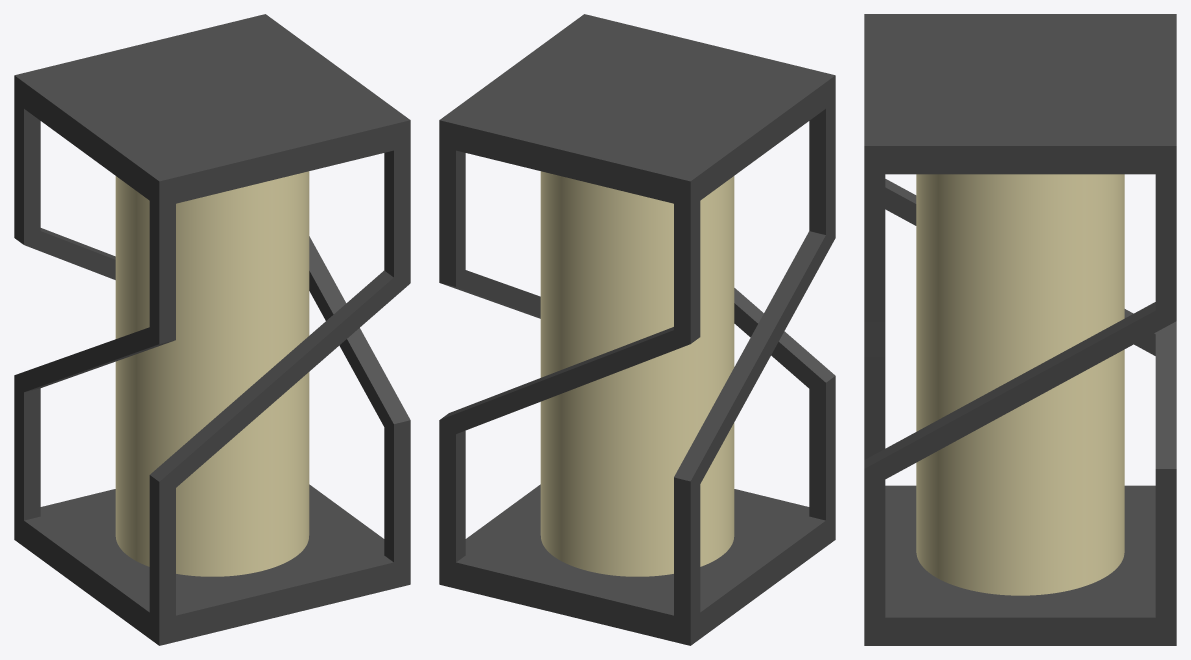
Rendered from wall+dec14.fbx.
The picture shows the model from 3 angles, left to right: view 1: azimuth 30°, elevation 25°; view 2: azimuth 150°, elevation 25°; view 3: azimuth 270°, elevation 25°; orthographic projection. The views are drawn at different scales.
Visible parts, largest first — view 1: Group4, Group3, Group2, Group7, Group8, Group6, Group5; view 2: Group4, Group3, Group2, Group8, Group5, Group7, Group6; view 3: Group4, Group3, Group2, Group6, Group5, Group7, Group8.
Part boxes in pixels (x1,y1,x2,y2): Group4: (115,171,309,576); Group3: (14,14,410,207); Group2: (14,484,410,645); Group7: (149,146,410,619); Group8: (14,201,175,520); Group6: (309,236,410,562); Group5: (14,102,115,279); Group4: (540,171,734,576); Group3: (439,14,835,207); Group2: (439,484,835,645); Group8: (674,102,835,619); Group5: (439,201,700,562); Group7: (734,288,835,520); Group6: (439,146,540,318); Group4: (916,174,1124,595); Group3: (864,14,1176,174); Group2: (864,485,1176,645); Group6: (864,174,1176,617); Group5: (1155,321,1176,617); Group7: (864,174,885,459); Group8: (885,179,1155,355).
Bounding box in the file's own units: 0.3 × 0.53 × 0.3.
